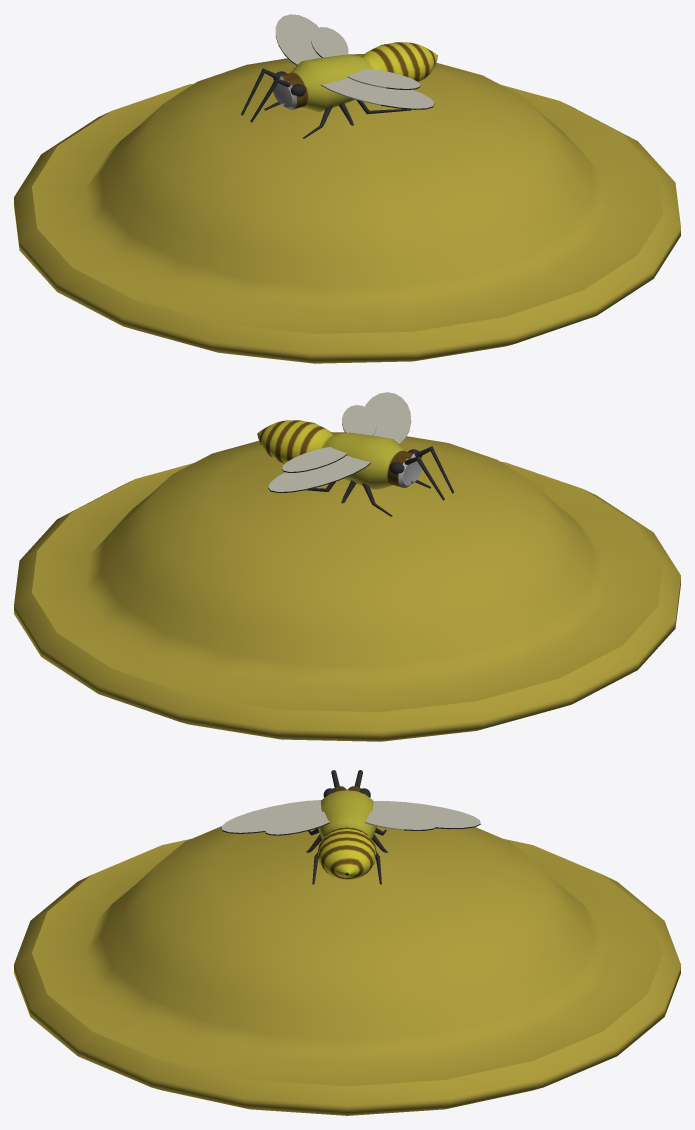
The model's file is Environment_HoneyPotLid_001.fbx.
3 renders of one model, top to bottom at view 1: azimuth 30°, elevation 25°; view 2: azimuth 150°, elevation 25°; view 3: azimuth 270°, elevation 25°, orthographic.
Parts seen in each view (by area): view 1: Envirnoment_HoneyPotLid_001, Envirnoment_Bee_001, Envirnoment_LrgWingLeft_001, Envirnoment_LrgWingRight_001, Envirnoment_SmlWingLeft_001, Environment_SmlWingRight_001, Envirnoment_Antenna_001; view 2: Envirnoment_HoneyPotLid_001, Envirnoment_Bee_001, Envirnoment_LrgWingRight_001, Envirnoment_LrgWingLeft_001, Environment_SmlWingRight_001, Envirnoment_SmlWingLeft_001, Envirnoment_Antenna_001; view 3: Envirnoment_HoneyPotLid_001, Envirnoment_Bee_001, Envirnoment_LrgWingLeft_001, Envirnoment_LrgWingRight_001, Environment_SmlWingRight_001, Envirnoment_SmlWingLeft_001.
Boxes of the visible parts, box(x1,y1,x2,y2) form: Envirnoment_HoneyPotLid_001: box(14, 54, 680, 363); Envirnoment_Bee_001: box(272, 42, 437, 111); Envirnoment_LrgWingLeft_001: box(321, 77, 434, 109); Envirnoment_LrgWingRight_001: box(275, 14, 321, 65); Envirnoment_SmlWingLeft_001: box(347, 68, 420, 89); Environment_SmlWingRight_001: box(311, 27, 348, 57); Envirnoment_Antenna_001: box(241, 68, 290, 122); Envirnoment_HoneyPotLid_001: box(14, 432, 680, 741); Envirnoment_Bee_001: box(257, 420, 422, 489); Envirnoment_LrgWingRight_001: box(268, 455, 370, 492); Envirnoment_LrgWingLeft_001: box(365, 392, 411, 444); Environment_SmlWingRight_001: box(282, 447, 346, 472); Envirnoment_SmlWingLeft_001: box(342, 405, 376, 435); Envirnoment_Antenna_001: box(404, 446, 454, 500); Envirnoment_HoneyPotLid_001: box(14, 826, 680, 1115); Envirnoment_Bee_001: box(318, 786, 376, 879); Envirnoment_LrgWingLeft_001: box(221, 800, 322, 833); Envirnoment_LrgWingRight_001: box(372, 801, 480, 829); Environment_SmlWingRight_001: box(364, 812, 436, 830); Envirnoment_SmlWingLeft_001: box(265, 811, 329, 835).
Bounding box in the file's own units: 230 × 71.05 × 230.
